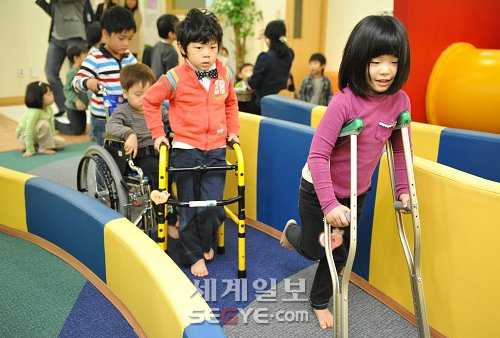crutches: (277, 14, 430, 338)
